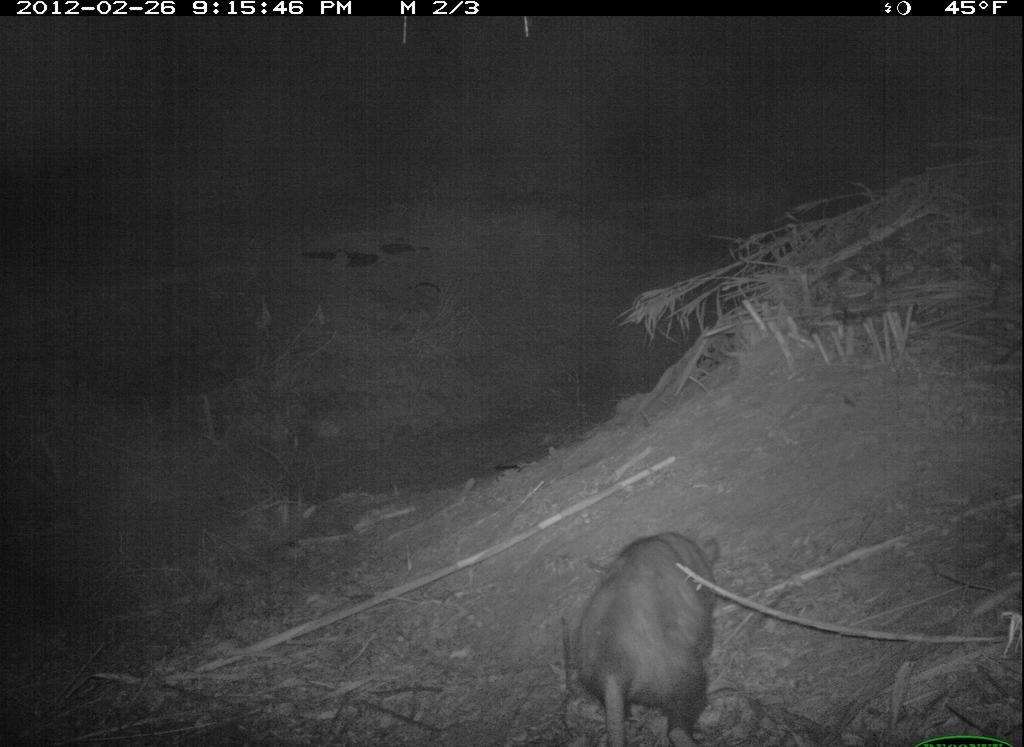opossum: (533, 521, 742, 740)
